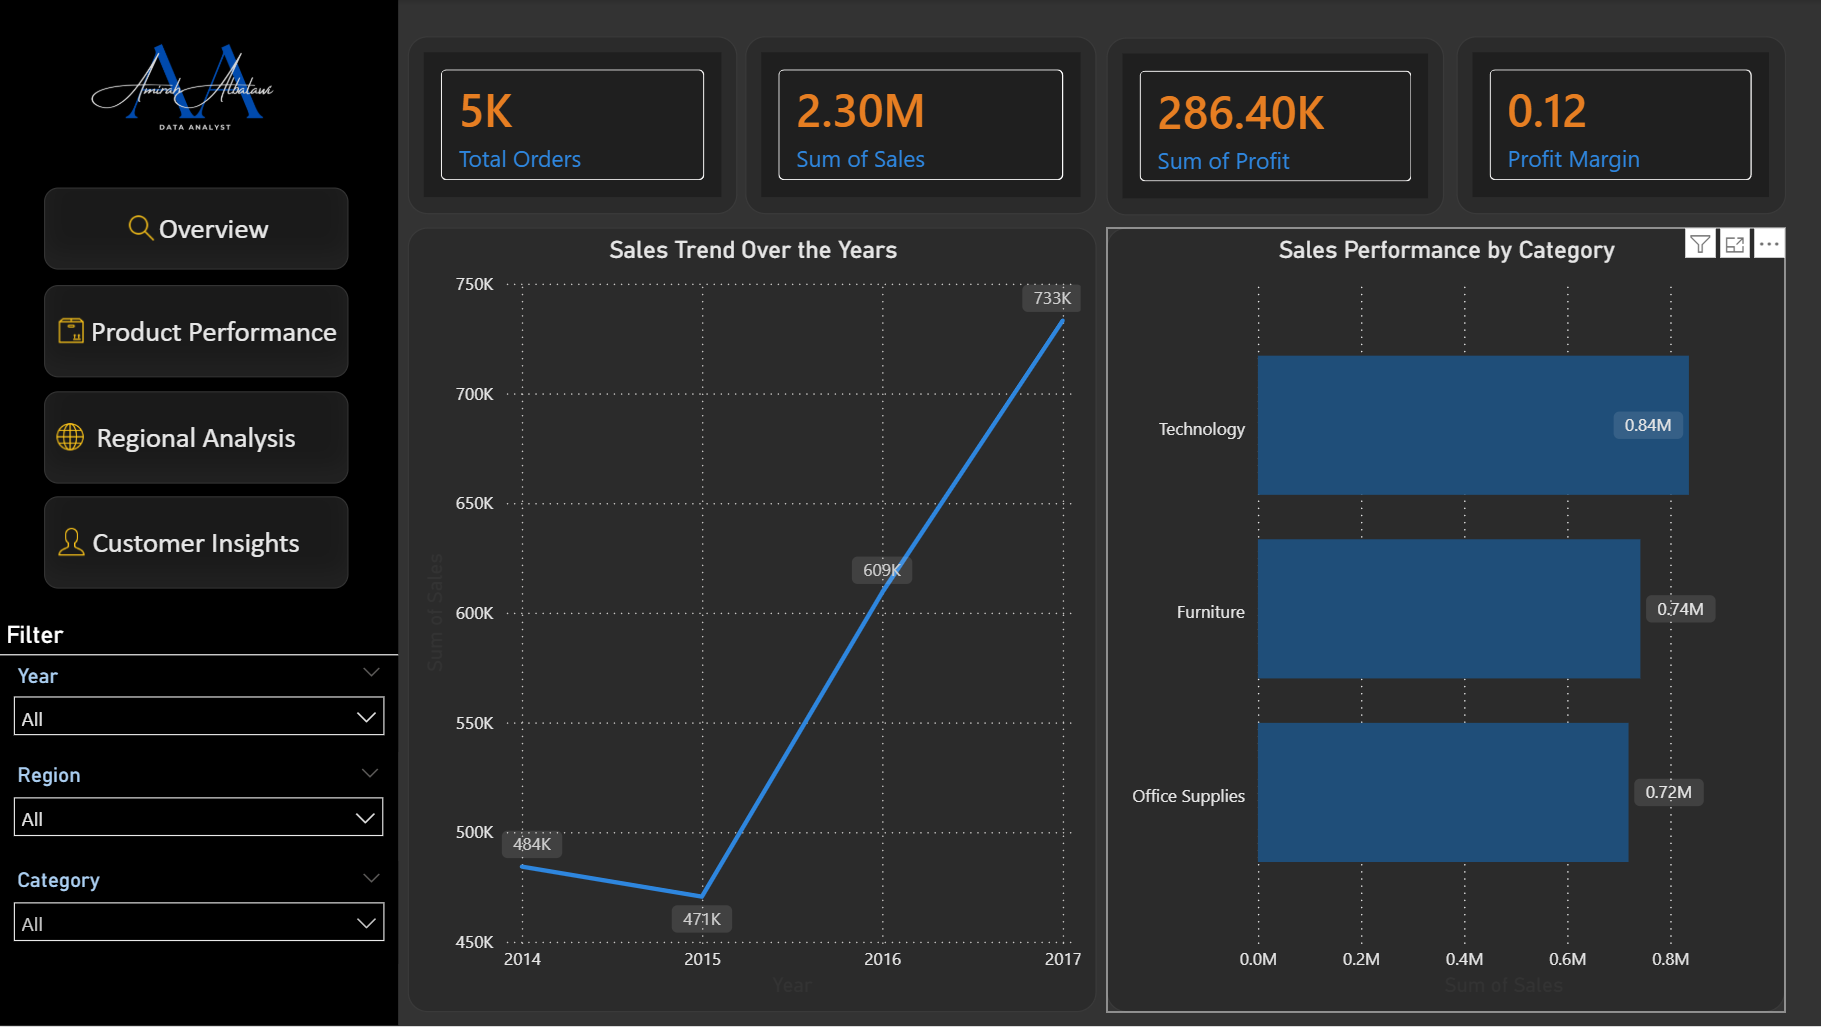

The page's visual inventory and layout, read from the dashboard file:
{"tool":"powerbi","page":{"name":"Page 1","canvas":[1280,720],"ordinal":0},"visuals":[{"type":"shape","box":[0,0,280.2,719.6],"z":0},{"type":"cardVisual","fields":{"Data":["Sum(Sample - Superstore.Sales)"]},"box":[523.7,25.2,246.1,124.9],"z":1000},{"type":"cardVisual","fields":{"Data":["Sum(Sample - Superstore.Profit)"]},"box":[777,26,237.1,124.9],"z":2000},{"type":"cardVisual","fields":{"Data":["Sample - Superstore.Total Orders"]},"box":[286.4,25.2,231.1,124.5],"z":3000},{"type":"cardVisual","fields":{"Data":["Sample - Superstore.Profit Margin"]},"box":[1022.2,25.2,230.8,124.9],"z":4000},{"type":"lineChart","title":"Sales Trend Over the Years","fields":{"Category":["Sample - Superstore.Order Date.Variation.Date Hierarchy.Year","Sample - Superstore.Order Date.Variation.Date Hierarchy.Quarter","Sample - Superstore.Order Date.Variation.Date Hierarchy.Month","Sample - Superstore.Order Date.Variation.Date Hierarchy.Day"],"Y":["Sum(Sample - Superstore.Sales)"]},"box":[286.5,159.9,483.3,550.6],"z":5000},{"type":"slicer","title":"Filter","fields":{"Values":["Sample - Superstore.Order Date (bins)"]},"box":[0,434.8,280.3,91.6],"z":6000},{"type":"slicer","fields":{"Values":["Sample - Superstore.Region"]},"box":[0,530.9,279.4,73.7],"z":7000},{"type":"slicer","fields":{"Values":["Sample - Superstore.Category"]},"box":[0,604.5,280.3,71.9],"z":8000},{"type":"actionButton","box":[31.4,131.1,213.8,57.5],"z":9000},{"type":"actionButton","box":[31.4,200.3,213.8,64.7],"z":10000},{"type":"actionButton","box":[31.4,274.9,213.8,64.7],"z":11000},{"type":"actionButton","box":[31.4,348.5,213.8,64.7],"z":12000},{"type":"image","box":[49.4,18.9,181.4,86.2],"z":13000},{"type":"barChart","title":"Sales Performance by Category","fields":{"Y":["Sum(Sample - Superstore.Sales)"],"Category":["Sample - Superstore.Category"]},"box":[777,159.9,476.1,550.6],"z":14000}]}

Visuals, with their boxes in screenshot pixels (x1, y1, x2, y2), scaled from the page's 1280x720 canvas onto the 1821x1027 screenshot:
shape: bbox=[0, 0, 399, 1026]
cardVisual - Sum(Sample - Superstore.Sales): bbox=[745, 36, 1095, 214]
cardVisual - Sum(Sample - Superstore.Profit): bbox=[1105, 37, 1443, 215]
cardVisual - Sample - Superstore.Total Orders: bbox=[407, 36, 736, 214]
cardVisual - Sample - Superstore.Profit Margin: bbox=[1454, 36, 1783, 214]
"Sales Trend Over the Years" lineChart: bbox=[408, 228, 1095, 1013]
"Filter" slicer: bbox=[0, 620, 399, 751]
slicer - Sample - Superstore.Region: bbox=[0, 757, 397, 862]
slicer - Sample - Superstore.Category: bbox=[0, 862, 399, 965]
actionButton: bbox=[45, 187, 349, 269]
actionButton: bbox=[45, 286, 349, 378]
actionButton: bbox=[45, 392, 349, 484]
actionButton: bbox=[45, 497, 349, 589]
image: bbox=[70, 27, 328, 150]
"Sales Performance by Category" barChart: bbox=[1105, 228, 1783, 1013]
